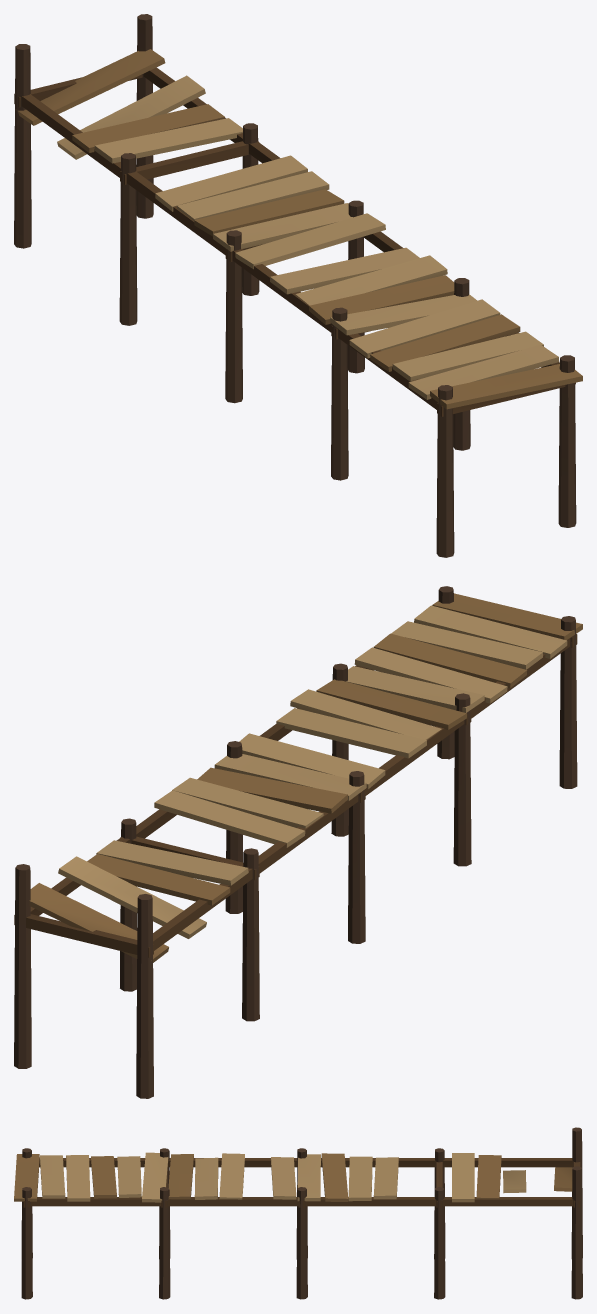
Rendered from Pier.fbx.
3 renders of one model, top to bottom at view 1: azimuth 30°, elevation 25°; view 2: azimuth 150°, elevation 25°; view 3: azimuth 270°, elevation 25°, orthographic. The views are drawn at different scales.
Parts seen in each view (by area): view 1: Pier; view 2: Pier; view 3: Pier.
Boxes of the visible parts, box(x1,y1,x2,y2) form: Pier: box(14, 14, 582, 557); Pier: box(14, 586, 582, 1098); Pier: box(14, 1127, 582, 1299).
Bounding box in the file's own units: 2.31 × 3.1 × 12.41.
